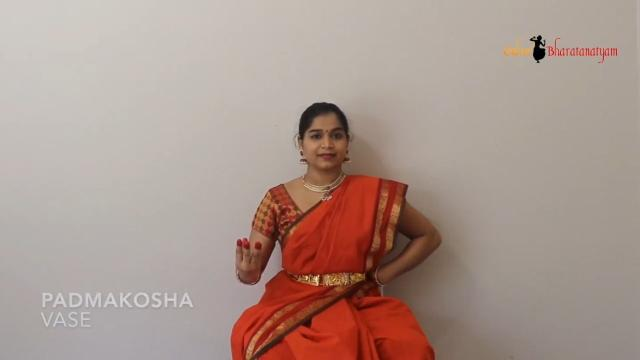padamkosh: (214, 221, 278, 296)
